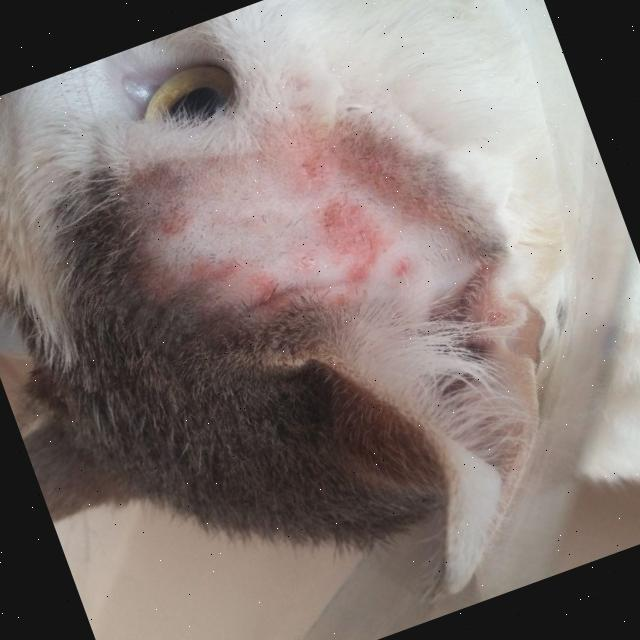cat-ringworm: (98, 80, 432, 390)
